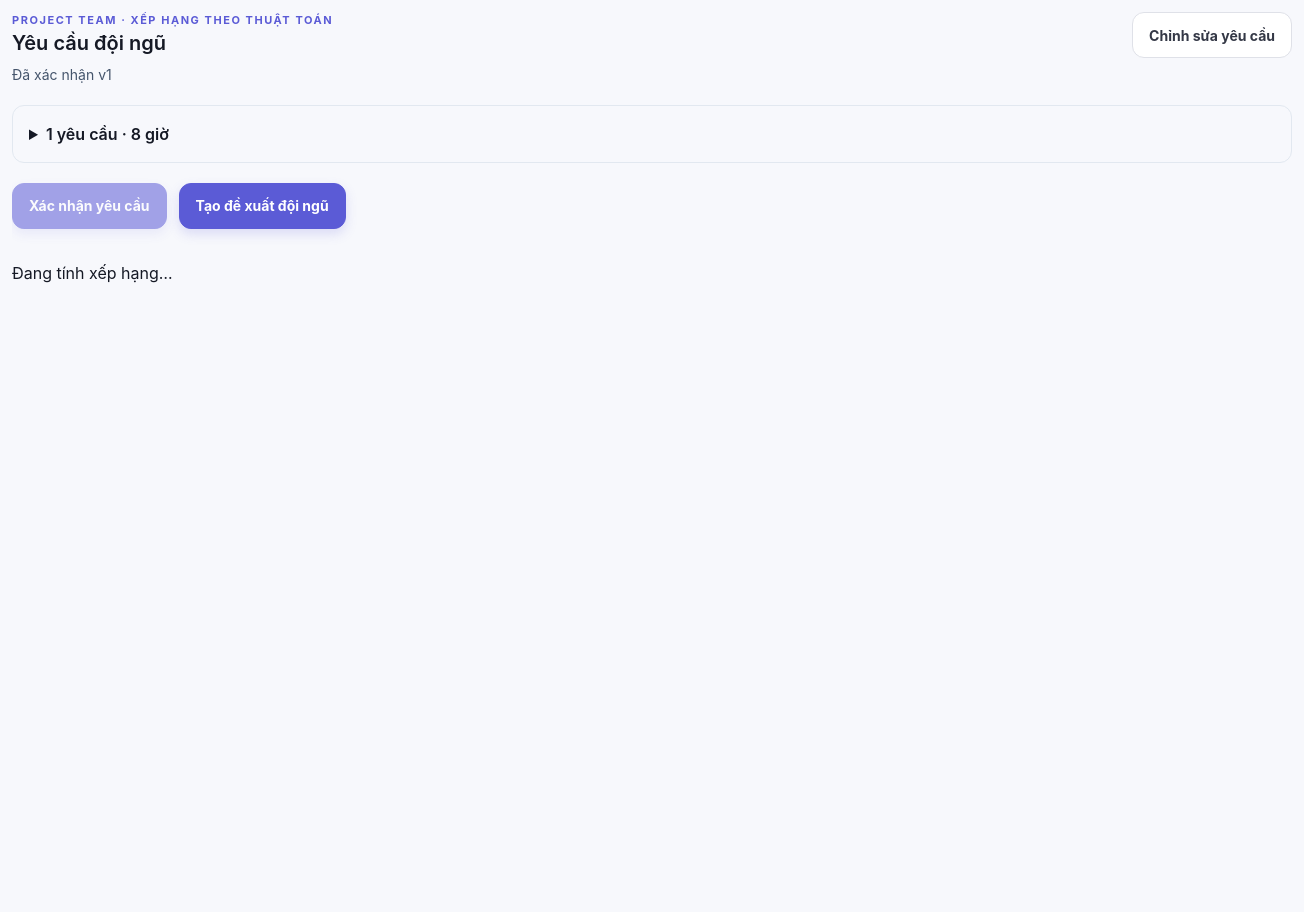
Test: TeamPanel › creates recommendation v1 from the exact confirmed requirement version
What coordinates should you click on to do the following:
click the button "Tạo đề xuất đội ngũ"
I would click on:
 (262, 206)
Its box is [179,182,346,228].
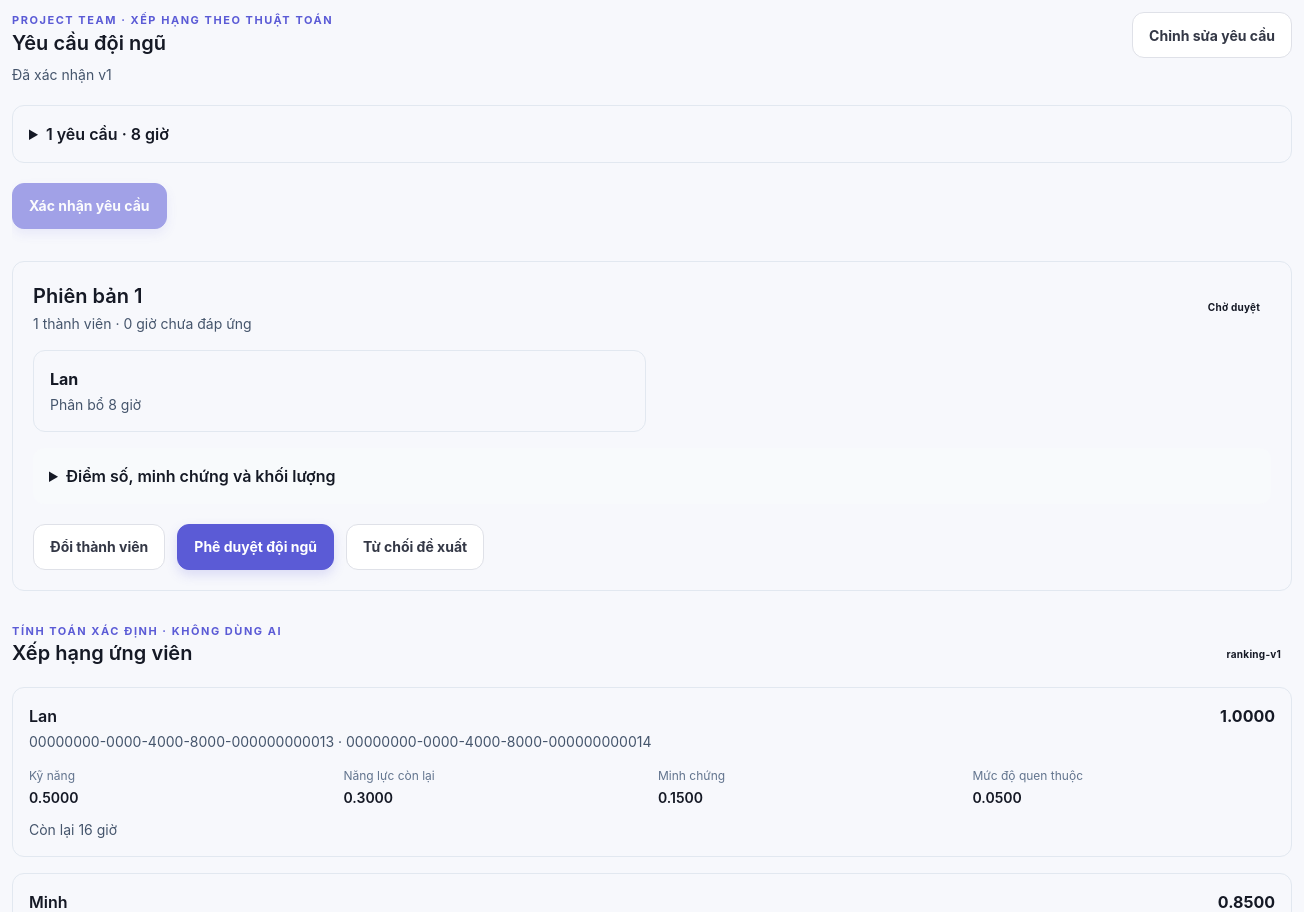
Expected: the element "Phiên bản 1" is shown, [12,260,1292,590]
Expected: the text "Lan" is shown, [50,368,78,388]
